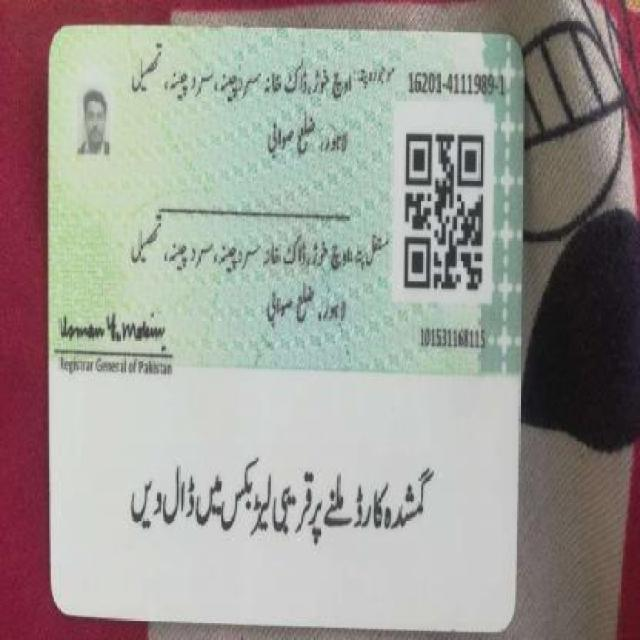Back: (39, 18, 522, 630)
